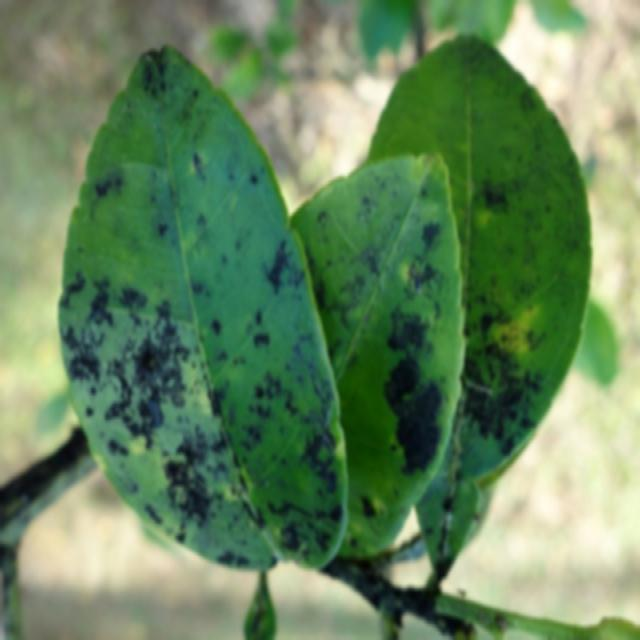Sooty Mold: (32, 51, 333, 589), (362, 31, 594, 580)
